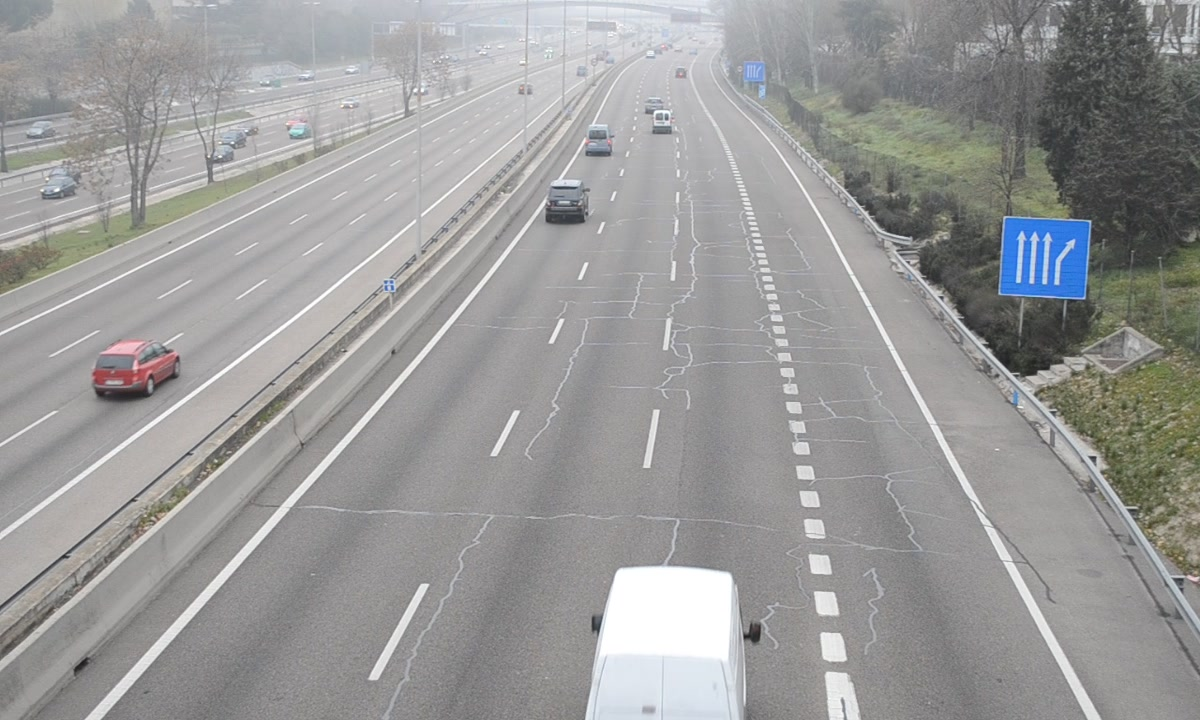car: (546, 180, 590, 220)
van: (585, 566, 748, 720), (584, 123, 613, 156)
